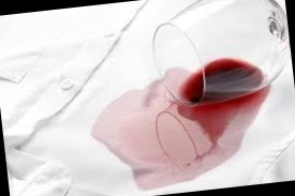wine: (97, 80, 246, 187), (151, 63, 268, 129), (136, 165, 194, 196)
